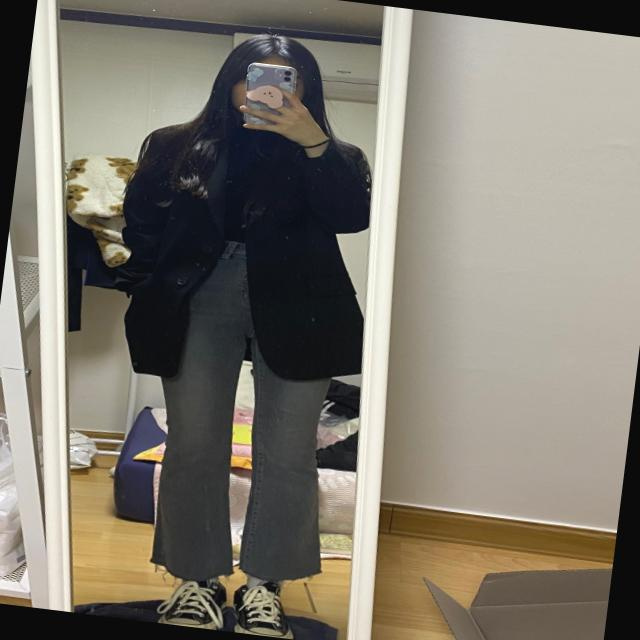blazer: (103, 105, 391, 400)
denimpants: (142, 230, 358, 596)
